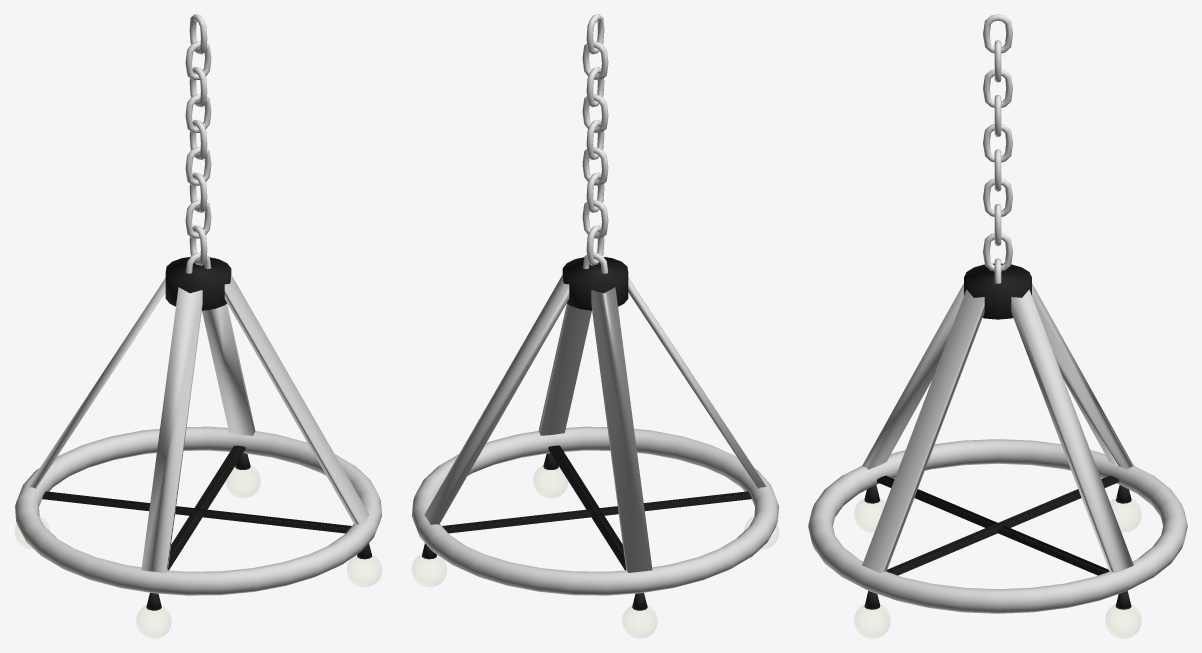
File: chandelier.glb
The picture shows the model from 3 angles, left to right: view 1: azimuth 30°, elevation 25°; view 2: azimuth 150°, elevation 25°; view 3: azimuth 270°, elevation 25°; orthographic projection. The views are drawn at different scales.
Visible parts, largest first — view 1: Cube, Torus, Torus.002, Icosphere, Plane, Circle, Plane.001, Cylinder; view 2: Cube, Torus, Torus.002, Icosphere, Plane.001, Circle, Plane, Cylinder; view 3: Cube, Torus, Torus.002, Icosphere, Circle, Plane, Plane.001, Cylinder.
Part boxes in pixels (<box>): Cube: <box>27,275,369,572</box>; Torus: <box>15,426,381,595</box>; Torus.002: <box>185,14,211,273</box>; Icosphere: <box>15,465,381,638</box>; Plane: <box>42,491,351,533</box>; Circle: <box>165,257,231,310</box>; Plane.001: <box>168,445,245,570</box>; Cylinder: <box>146,453,372,610</box>; Cube: <box>424,275,766,572</box>; Torus: <box>412,426,778,595</box>; Torus.002: <box>582,14,608,273</box>; Icosphere: <box>412,465,778,638</box>; Plane.001: <box>442,491,751,533</box>; Circle: <box>562,257,628,310</box>; Plane: <box>548,445,625,570</box>; Cylinder: <box>421,453,647,610</box>; Cube: <box>862,283,1133,572</box>; Torus: <box>808,439,1187,613</box>; Torus.002: <box>983,14,1012,283</box>; Icosphere: <box>855,498,1140,638</box>; Circle: <box>964,263,1031,319</box>; Plane: <box>886,475,1119,575</box>; Plane.001: <box>876,475,1109,575</box>; Cylinder: <box>864,485,1131,609</box>.
Size of the model in its own units: 2.14 by 3.54 by 2.14.
